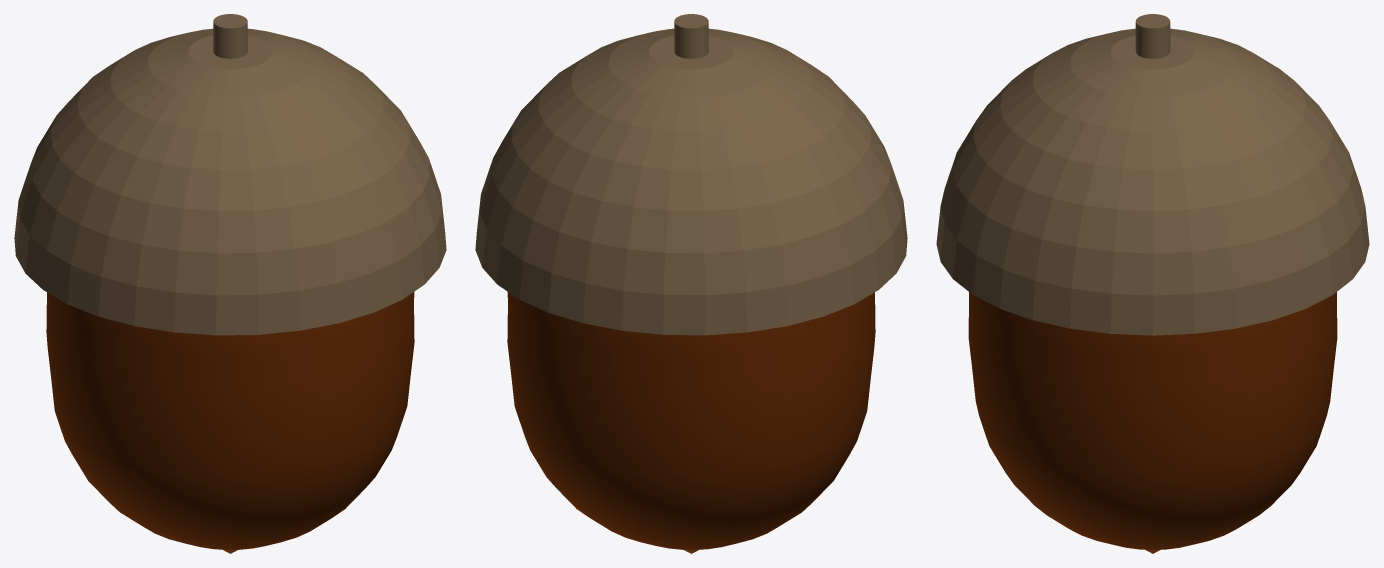
The model's file is acorn.fbx.
3 renders of one model, left to right at view 1: azimuth 30°, elevation 25°; view 2: azimuth 150°, elevation 25°; view 3: azimuth 270°, elevation 25°, orthographic.
Parts seen in each view (by area): view 1: Sphere; view 2: Sphere; view 3: Sphere.
Part boxes in pixels (x1,y1,x2,y2): Sphere: [14, 14, 446, 553]; Sphere: [475, 14, 907, 553]; Sphere: [936, 14, 1369, 553].
Size of the model in its own units: 240 by 325 by 240.
